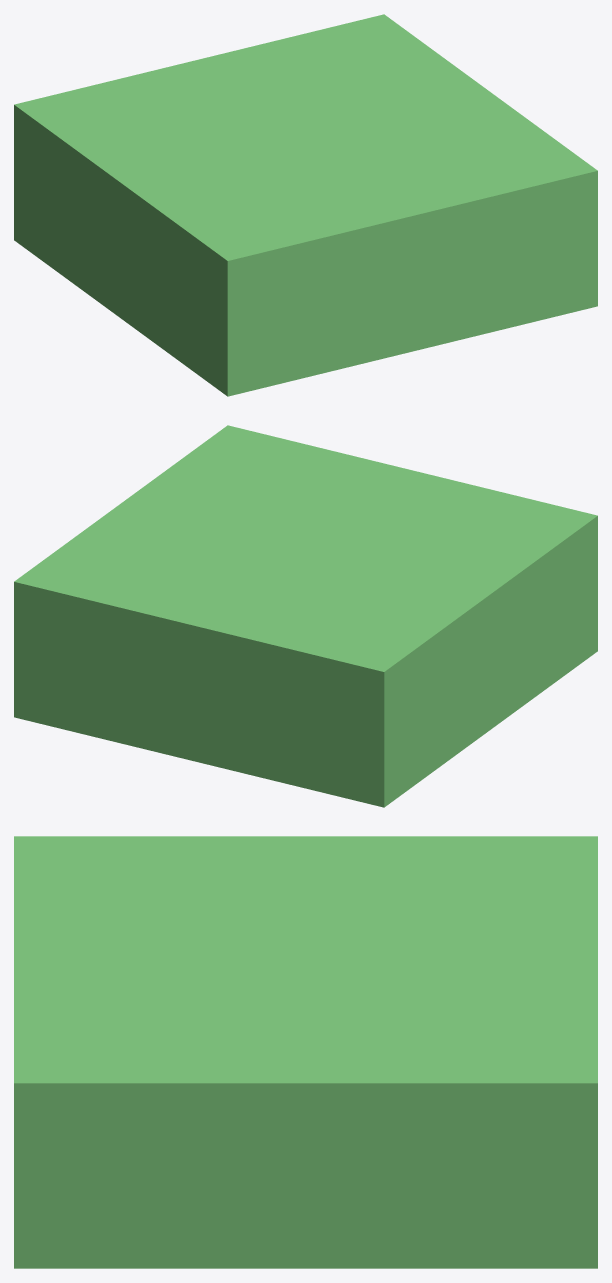
File: Bld3_Roof_Flat_Mid_A.fbx
3 views of the same model, one above another, from view 1: azimuth 30°, elevation 25°; view 2: azimuth 150°, elevation 25°; view 3: azimuth 270°, elevation 25° (orthographic). The views are drawn at different scales.
Parts seen in each view (by area): view 1: Bld3_Roof_Flat_Mid_A; view 2: Bld3_Roof_Flat_Mid_A; view 3: Bld3_Roof_Flat_Mid_A.
Boxes of the visible parts, x1,y1,x2,y2 form: Bld3_Roof_Flat_Mid_A: (14,14,597,396); Bld3_Roof_Flat_Mid_A: (14,425,597,807); Bld3_Roof_Flat_Mid_A: (14,836,597,1268).
Size of the model in its own units: 300 by 105 by 300.
